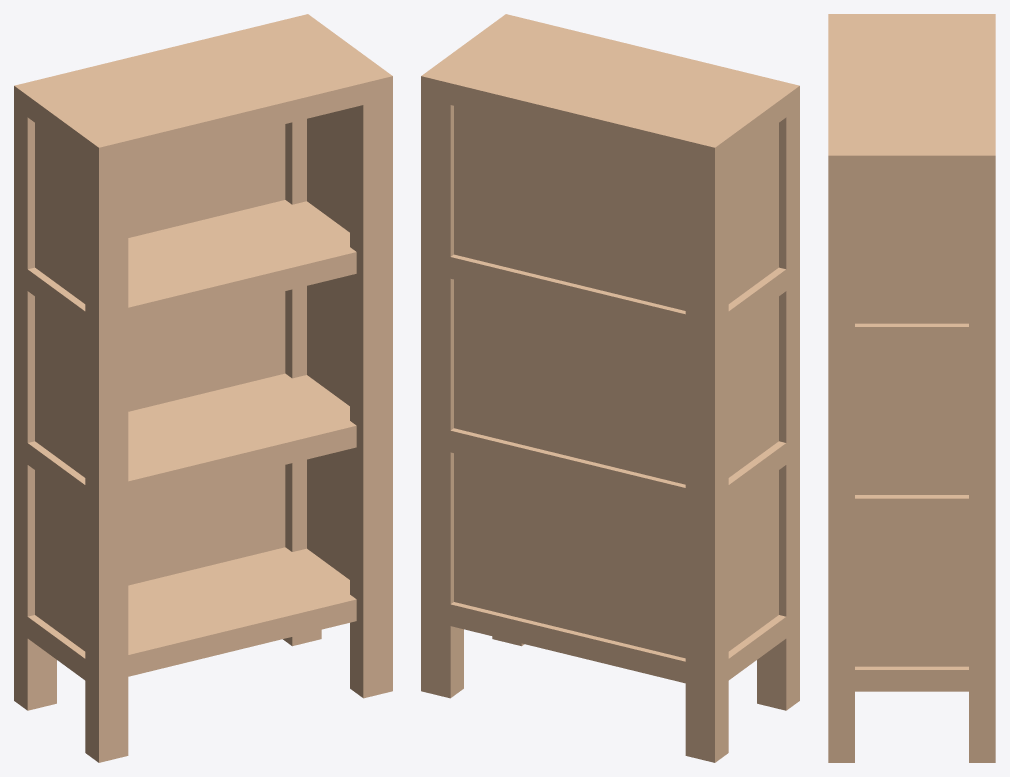
The model's file is bookcaseClosed-alt-col.glb.
The picture shows the model from 3 angles, left to right: view 1: azimuth 30°, elevation 25°; view 2: azimuth 150°, elevation 25°; view 3: azimuth 270°, elevation 25°; orthographic projection.
Parts seen in each view (by area): view 1: bookcaseClosed-alt-col; view 2: bookcaseClosed-alt-col; view 3: bookcaseClosed-alt-col.
Boxes of the visible parts, x1,y1,x2,y2 form: bookcaseClosed-alt-col: (14,14,392,762); bookcaseClosed-alt-col: (421,14,799,762); bookcaseClosed-alt-col: (828,14,995,762).
Bounding box in the file's own units: 0.5 × 1 × 0.25.
